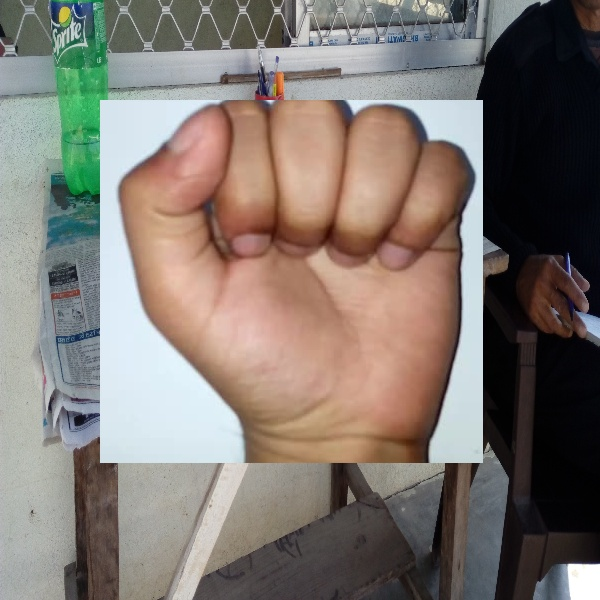F: (100, 100, 483, 463)
